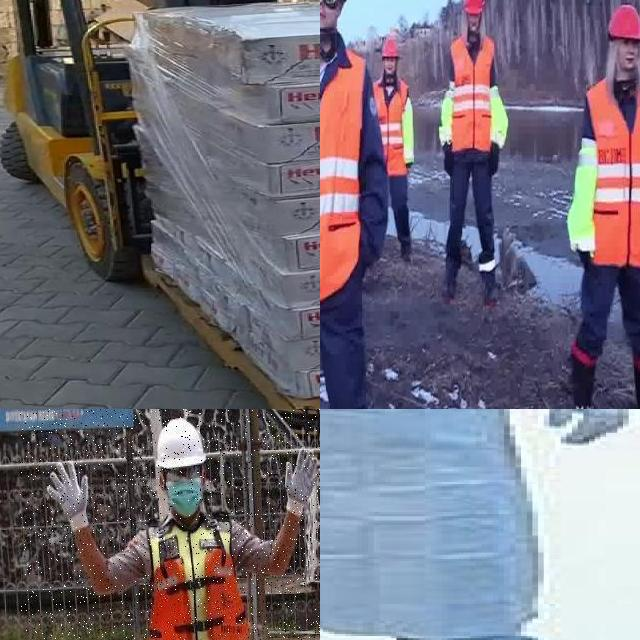GLASS: (164, 467, 206, 482)
GLOVE: (47, 461, 92, 530), (286, 449, 320, 515)
Glove: (538, 409, 638, 445)
HELMET: (153, 417, 208, 472), (607, 4, 640, 40), (382, 34, 400, 61), (462, 0, 484, 17)
VEST: (146, 519, 251, 640), (585, 75, 640, 268), (320, 45, 361, 300), (448, 32, 496, 156), (372, 78, 410, 178)
